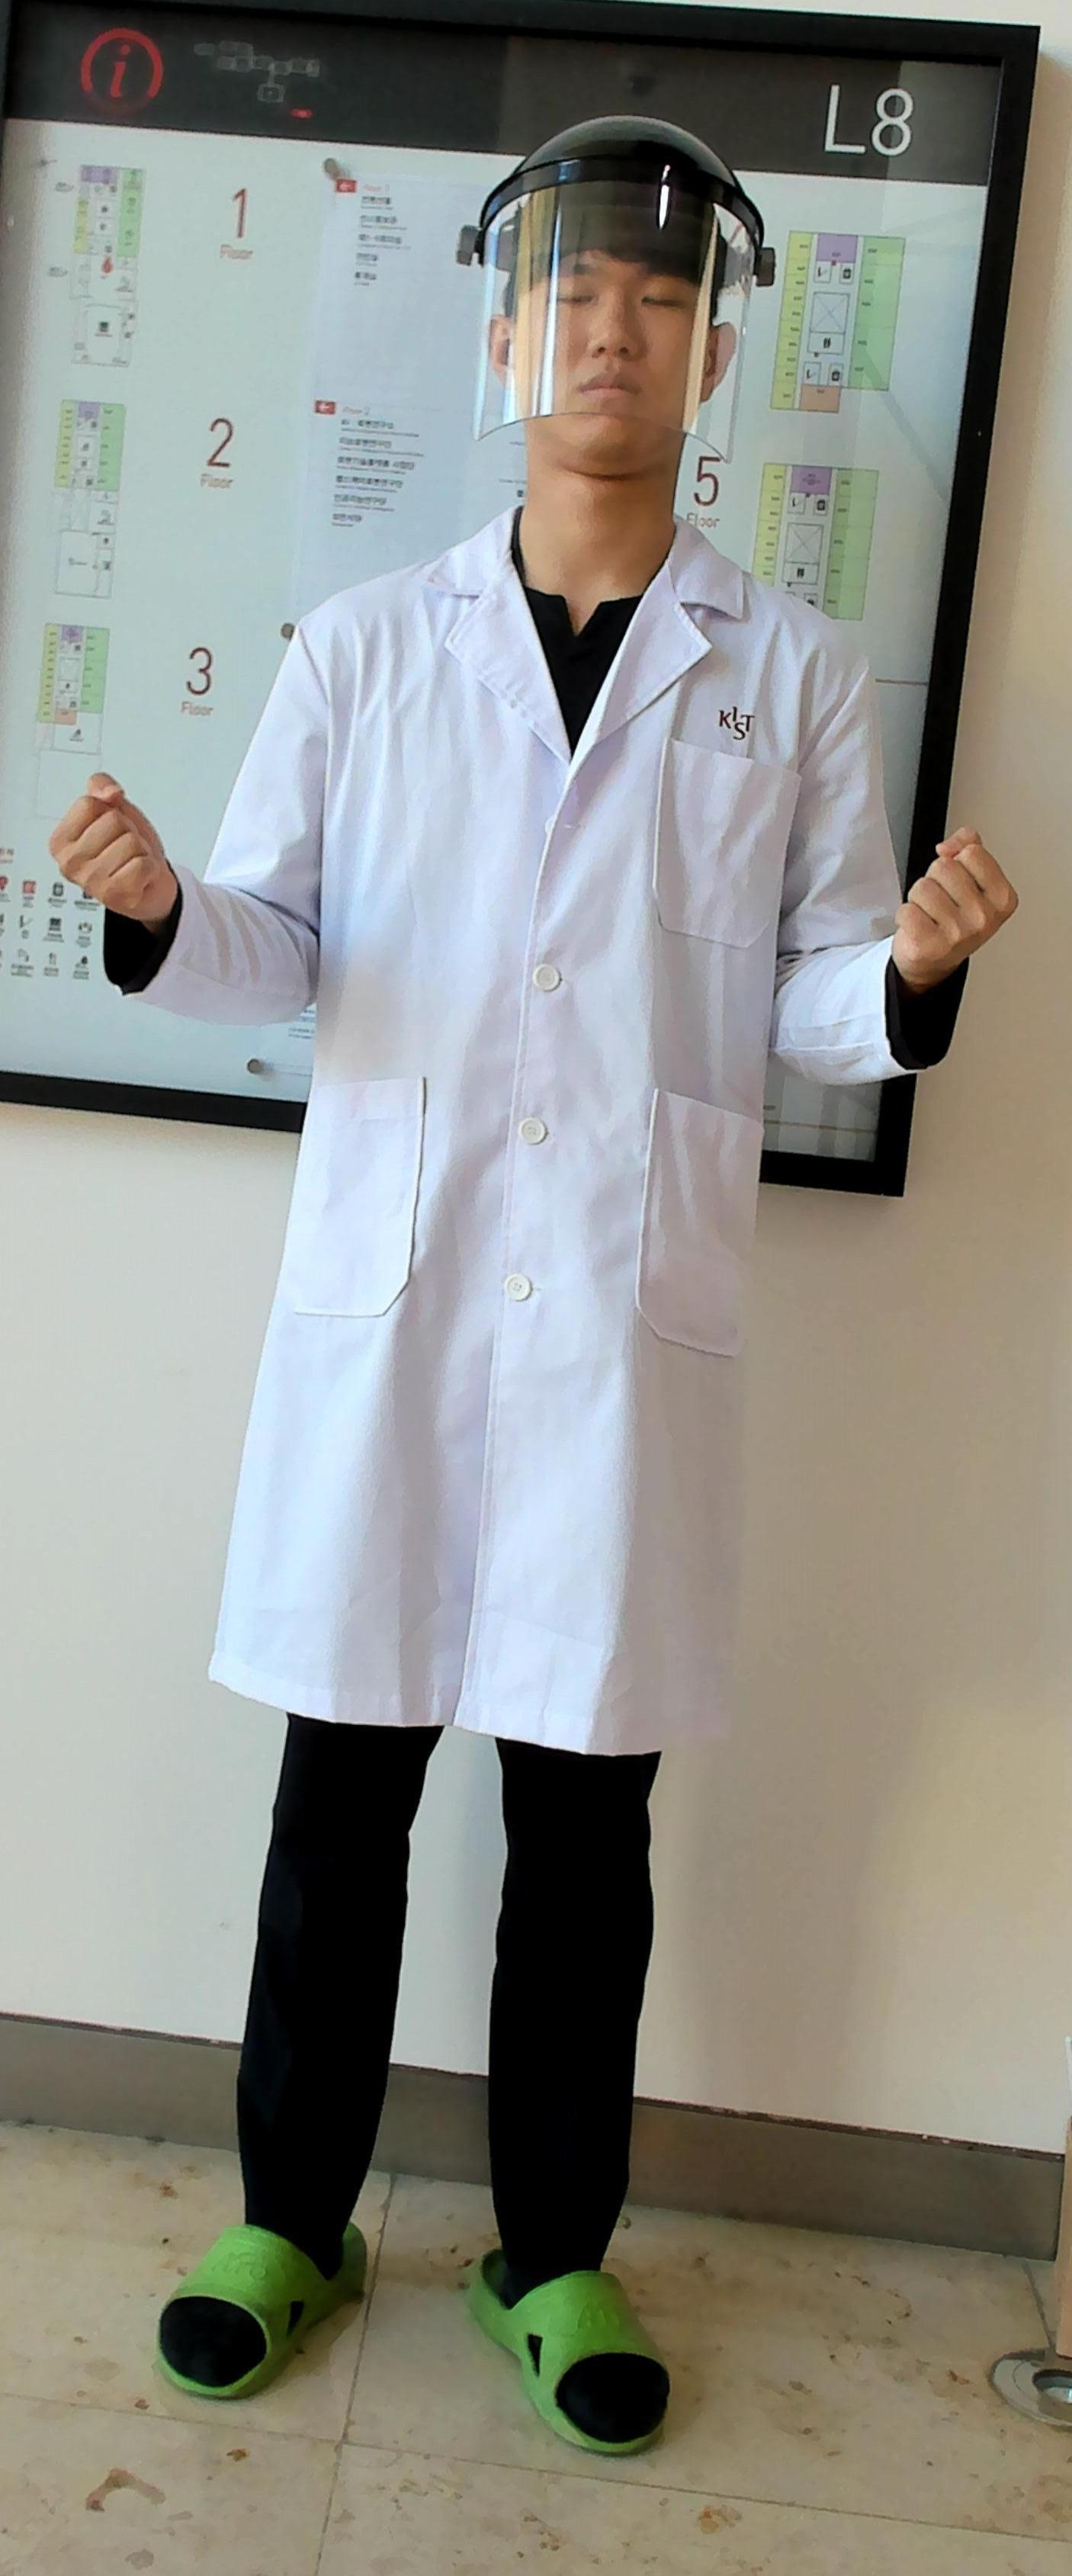lab_coat: (238, 611, 809, 1710)
